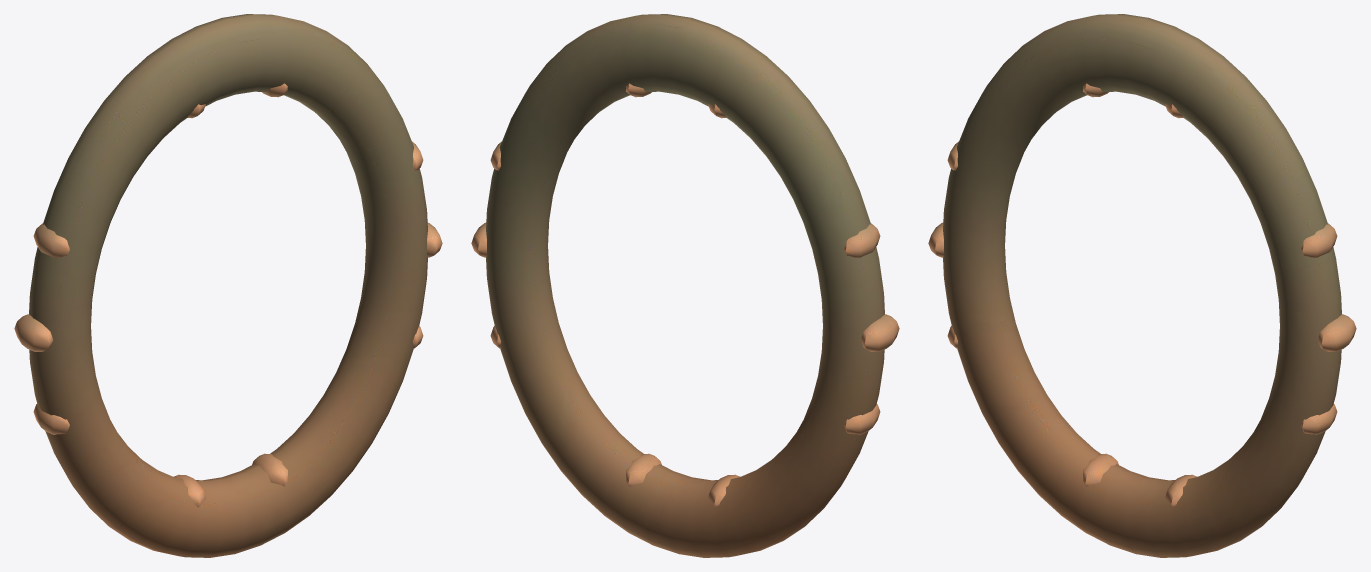
The model's file is copper_ring.glb.
The picture shows the model from 3 angles, left to right: view 1: azimuth 30°, elevation 25°; view 2: azimuth 150°, elevation 25°; view 3: azimuth 330°, elevation 25°; orthographic projection.
Visible parts, largest first — view 1: copper_ring; view 2: copper_ring; view 3: copper_ring.
Boxes of the visible parts, x1,y1,x2,y2 form: copper_ring: (14,14,442,557); copper_ring: (471,14,899,557); copper_ring: (928,14,1356,557).
Bounding box in the file's own units: 0.0766 × 0.0936 × 0.00975.
Materials: 1 (1 with a texture image).
